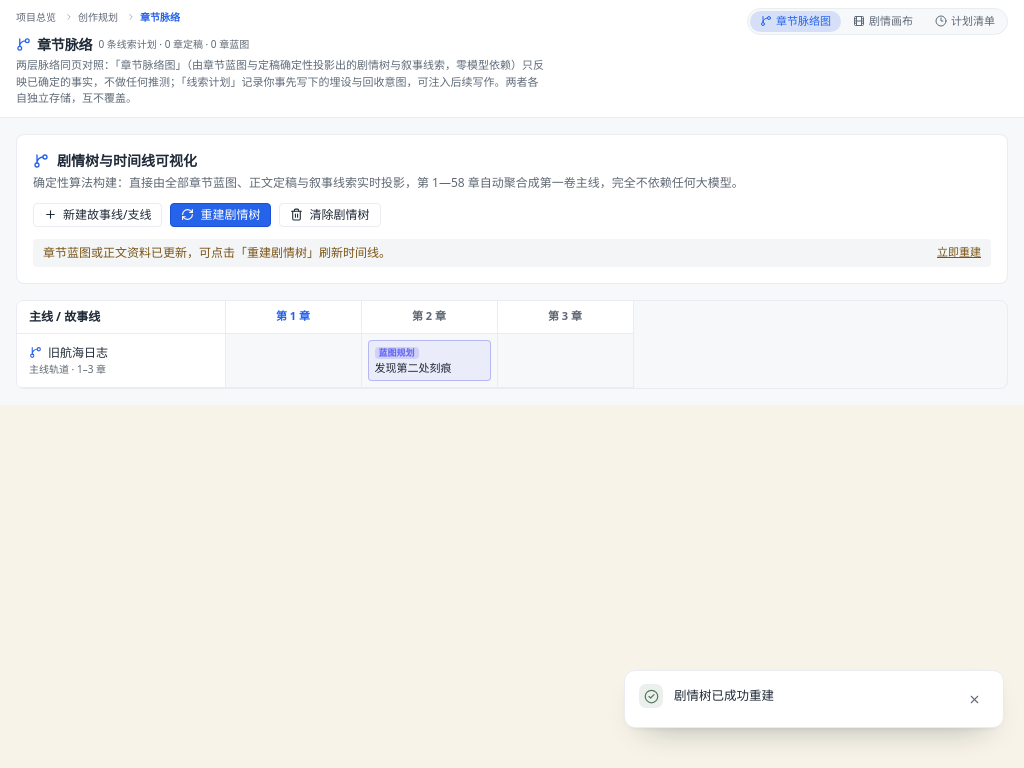
Test: NarrativeThreadEditor › keeps the previous plot tree when the rebuild fails and shows a safe fallback
Click the button "重建剧情树" at (221, 214), box [170,202,272,226]
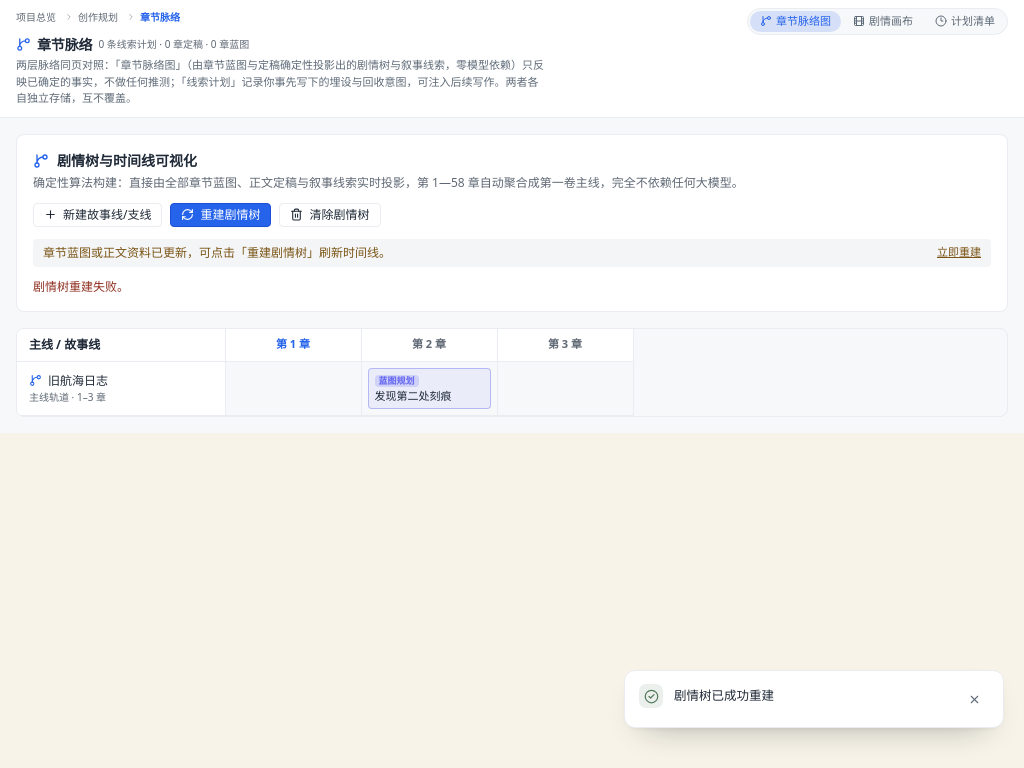
Expected: the text "旧航海日志" is shown, [48,373,108,389]
Expected: the text "剧情树重建失败。" is shown, [33,278,129,294]
